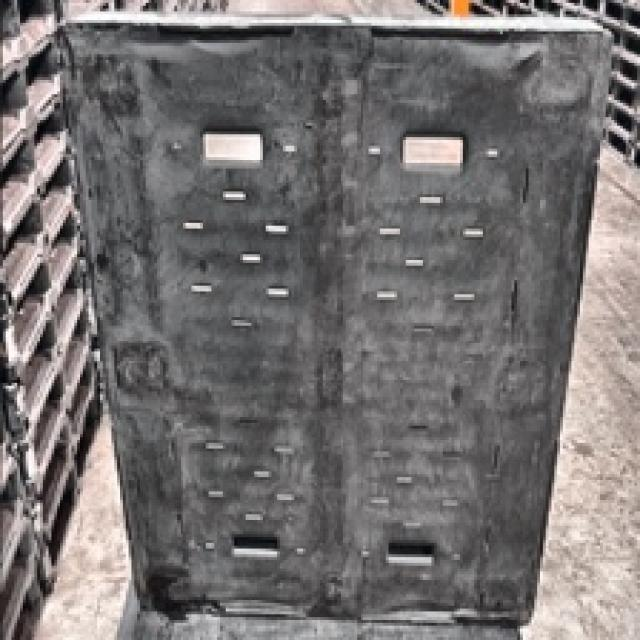igps: (44, 6, 621, 634)
